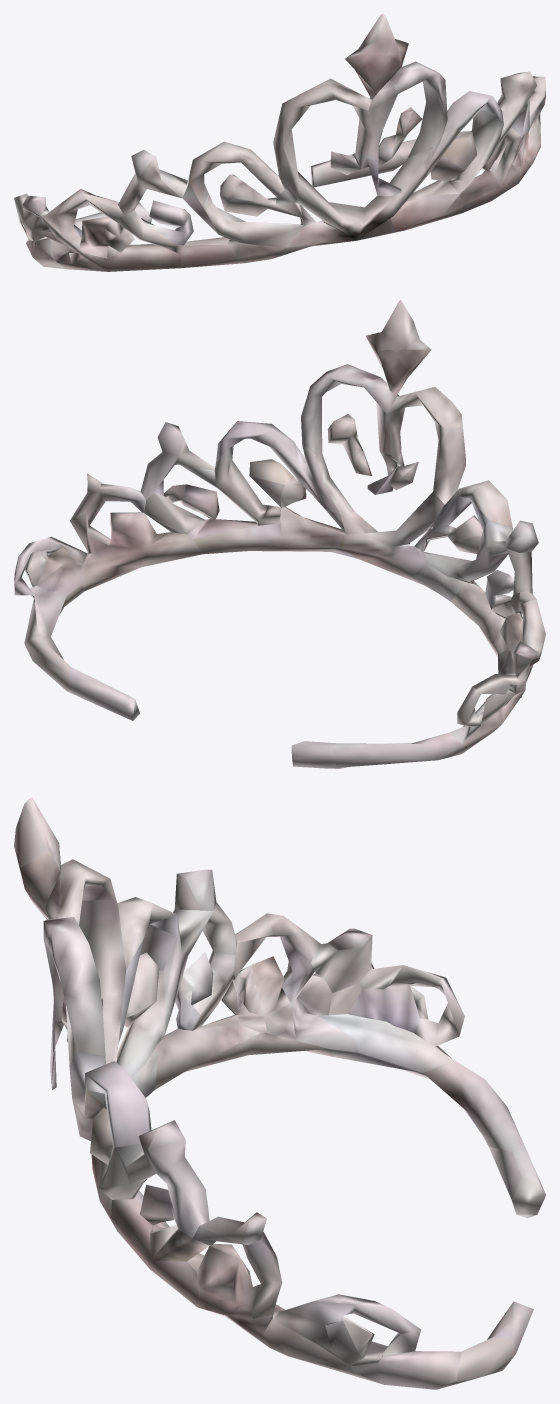
3 renders of one model, top to bottom at view 1: azimuth 30°, elevation 25°; view 2: azimuth 150°, elevation 25°; view 3: azimuth 270°, elevation 25°, orthographic. The views are drawn at different scales.
Visible parts, largest first — view 1: Silver-Tiara-18; view 2: Silver-Tiara-18; view 3: Silver-Tiara-18.
Part boxes in pixels (x1=…): Silver-Tiara-18: x1=14, y1=14, x2=545, y2=271; Silver-Tiara-18: x1=14, y1=300, x2=545, y2=768; Silver-Tiara-18: x1=14, y1=797, x2=545, y2=1389.
Size of the model in its own units: 0.3227 by 0.196 by 0.2024.
Materials: 1 (1 with a texture image).
